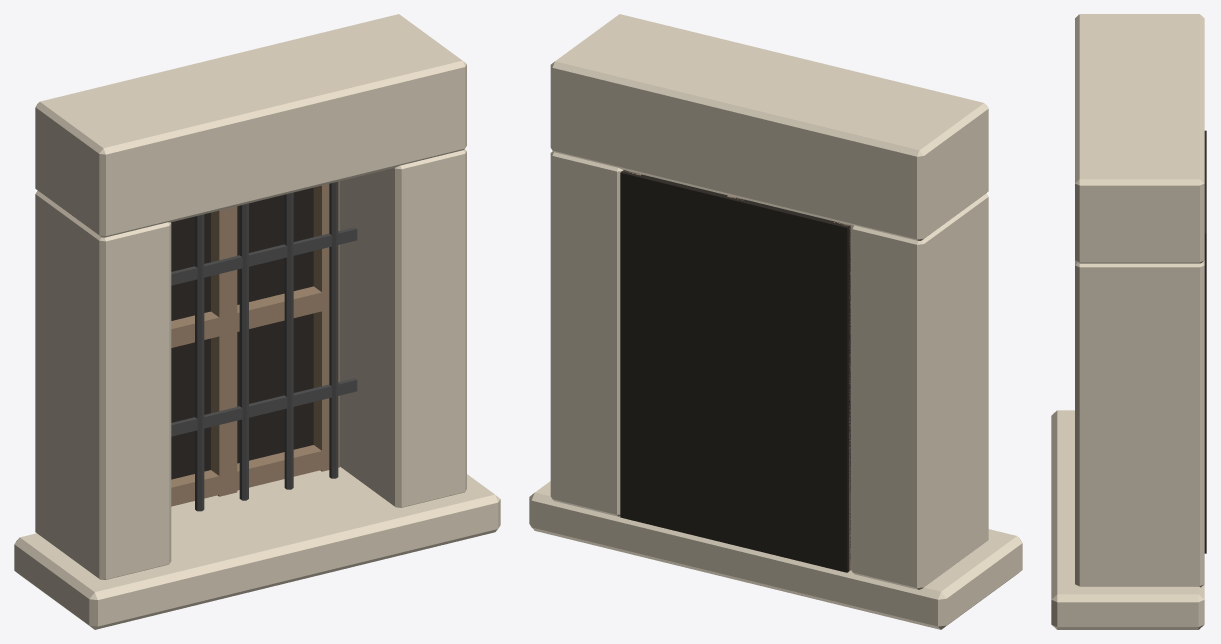
Rendered from pencere_duz.glb.
3 views of the same model, side by side, from view 1: azimuth 30°, elevation 25°; view 2: azimuth 150°, elevation 25°; view 3: azimuth 270°, elevation 25° (orthographic). The views are drawn at different scales.
Visible parts, largest first — view 1: pencere_duz; view 2: pencere_duz; view 3: pencere_duz.
Part boxes in pixels (left/top/right/bottom): pencere_duz: left=14, top=14, right=500, bottom=629; pencere_duz: left=529, top=14, right=1022, bottom=629; pencere_duz: left=1051, top=14, right=1206, bottom=629.
Bounding box in the file's own units: 1.14 × 1.24 × 0.395.
